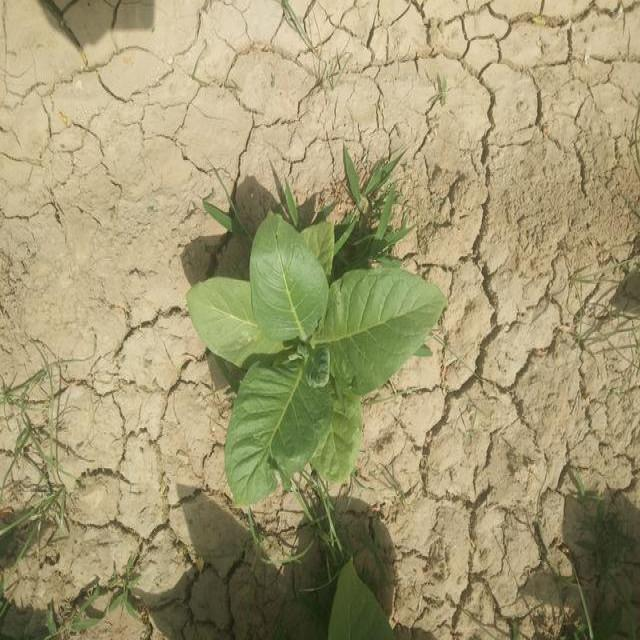crop: (178, 214, 442, 522)
